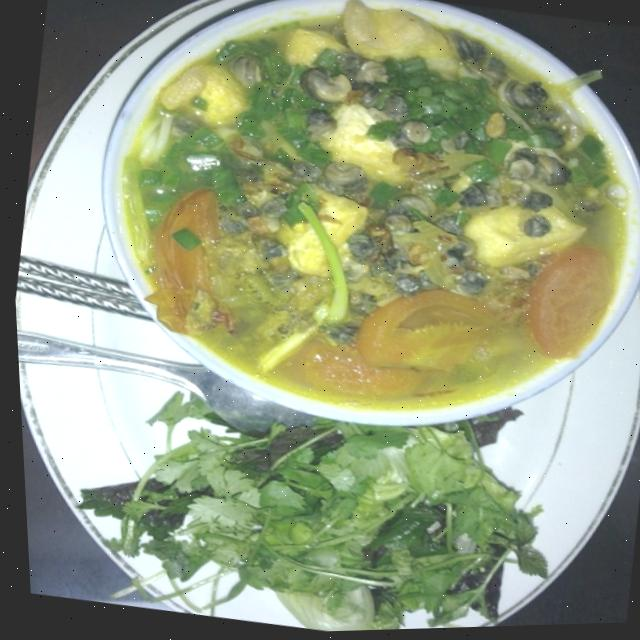面条主食: (34, 0, 640, 470)
